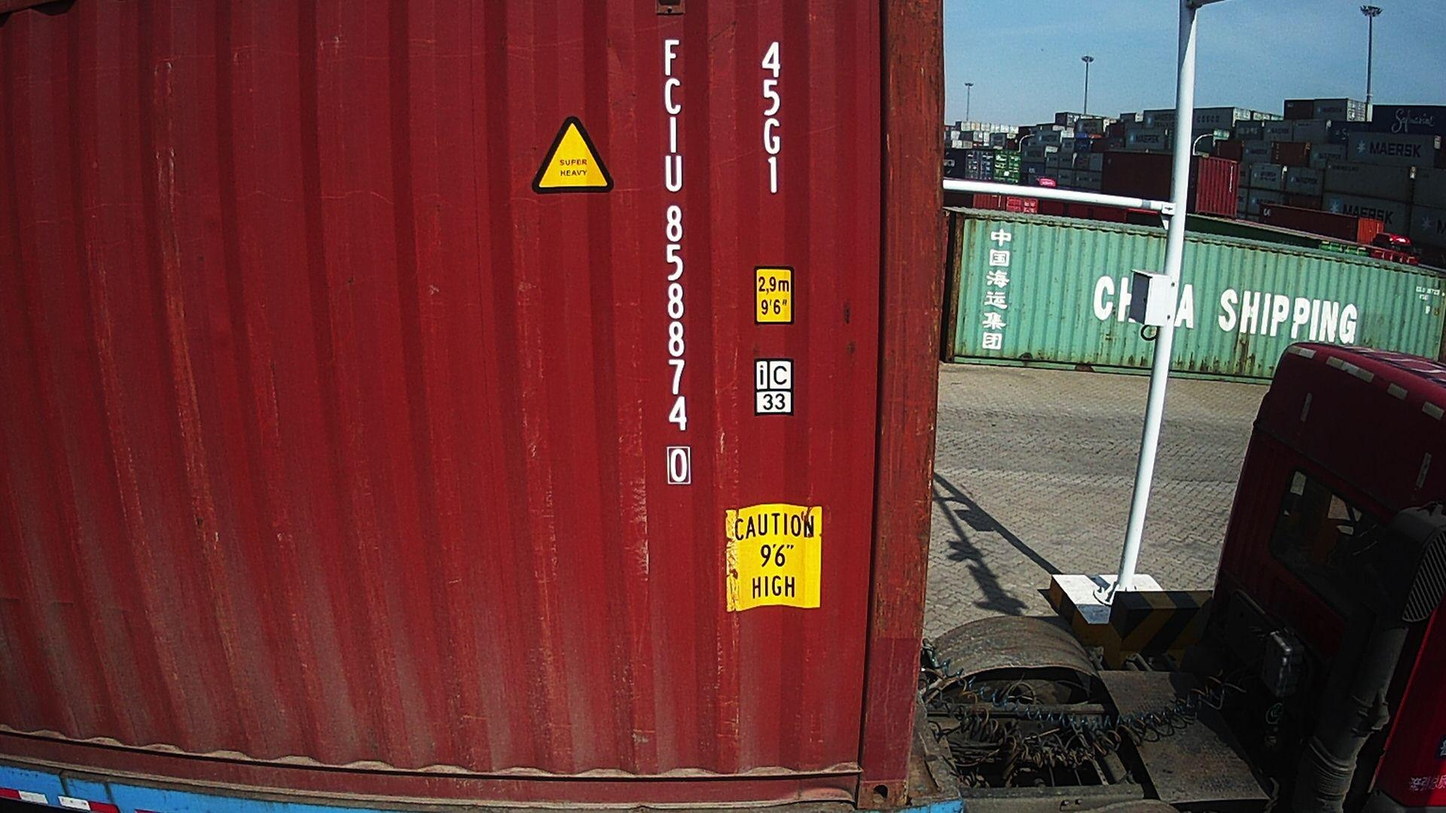container-numbers: (655, 33, 695, 492), (755, 36, 787, 196)
